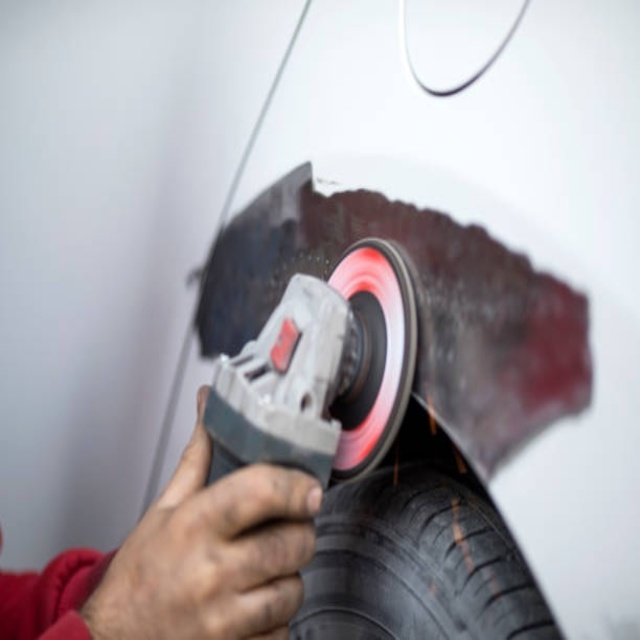Sin_guantes: (87, 391, 325, 640)
